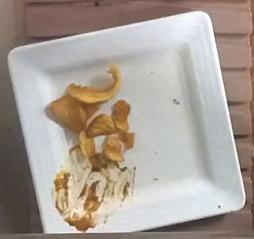fries: (50, 64, 134, 169)
